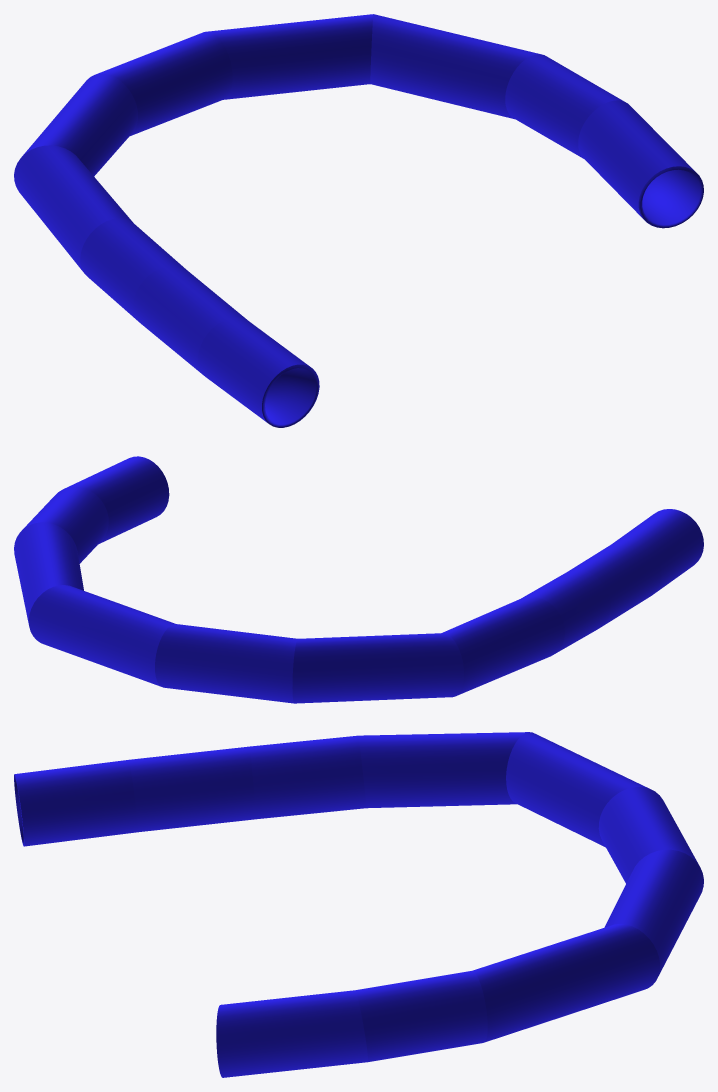
3 renders of one model, top to bottom at view 1: azimuth 30°, elevation 25°; view 2: azimuth 150°, elevation 25°; view 3: azimuth 270°, elevation 25°, orthographic. The views are drawn at different scales.
Parts seen in each view (by area): view 1: Cylinder; view 2: Cylinder; view 3: Cylinder.
Boxes of the visible parts, box(x1,y1,x2,y2) form: Cylinder: box(14, 14, 703, 427); Cylinder: box(14, 456, 703, 703); Cylinder: box(14, 732, 703, 1077).
Bounding box in the file's own units: 382 × 71.46 × 394.
